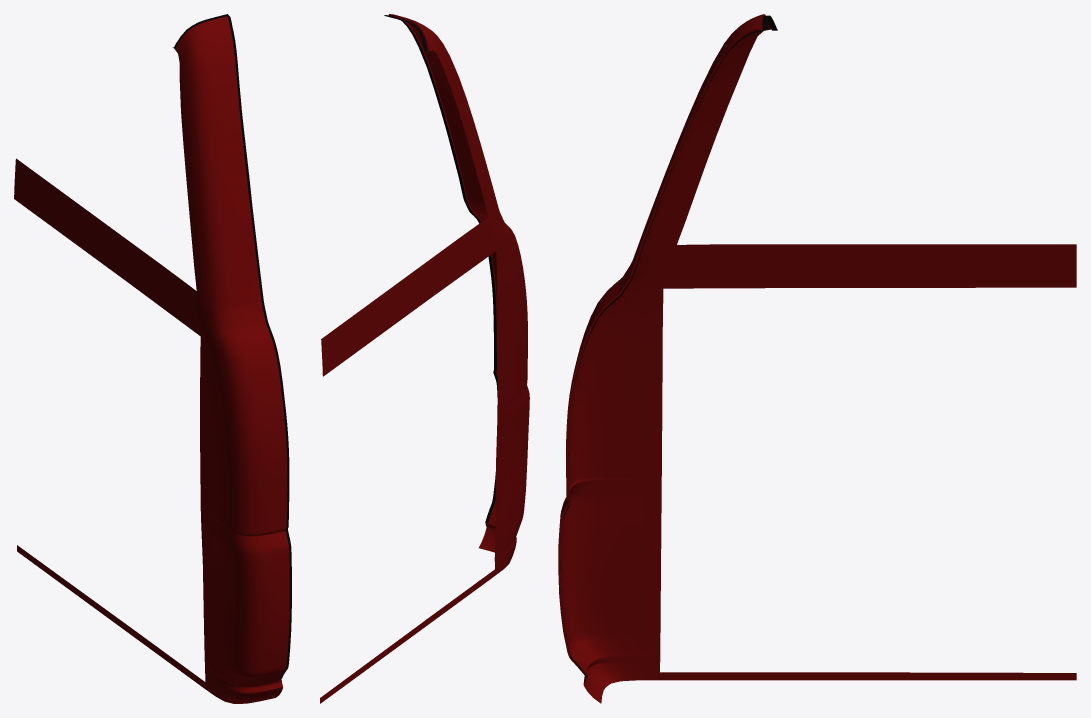
The picture shows the model from 3 angles, left to right: view 1: azimuth 30°, elevation 25°; view 2: azimuth 150°, elevation 25°; view 3: azimuth 270°, elevation 25°; orthographic projection. The views are drawn at different scales.
Parts seen in each view (by area): view 1: U805_4A_181X_R_1_DaS_U805_4A_181X_R, U805_4A_181X_R_U805_4A_181X_R_2_D; view 2: U805_4A_181X_R_1_DaS_U805_4A_181X_R, U805_4A_181X_R_U805_4A_181X_R_2_D, U805_4A_181X_R_1_DaS_U805_4A_181X_R_E; view 3: U805_4A_181X_R_1_DaS_U805_4A_181X_R, U805_4A_181X_R_1_DaS_U805_4A_181X_R_E, U805_4A_181X_R_U805_4A_181X_R_2_D.
Part boxes in pixels (x1,y1,x2,y2): U805_4A_181X_R_1_DaS_U805_4A_181X_R: (14,16,289,703); U805_4A_181X_R_U805_4A_181X_R_2_D: (172,14,291,679); U805_4A_181X_R_1_DaS_U805_4A_181X_R: (320,14,529,703); U805_4A_181X_R_U805_4A_181X_R_2_D: (384,15,497,523); U805_4A_181X_R_1_DaS_U805_4A_181X_R_E: (388,14,525,558); U805_4A_181X_R_1_DaS_U805_4A_181X_R: (560,14,1076,703); U805_4A_181X_R_1_DaS_U805_4A_181X_R_E: (558,14,765,685); U805_4A_181X_R_U805_4A_181X_R_2_D: (560,15,777,677).
Size of the model in its own units: 16.48 by 130 by 88.6.
